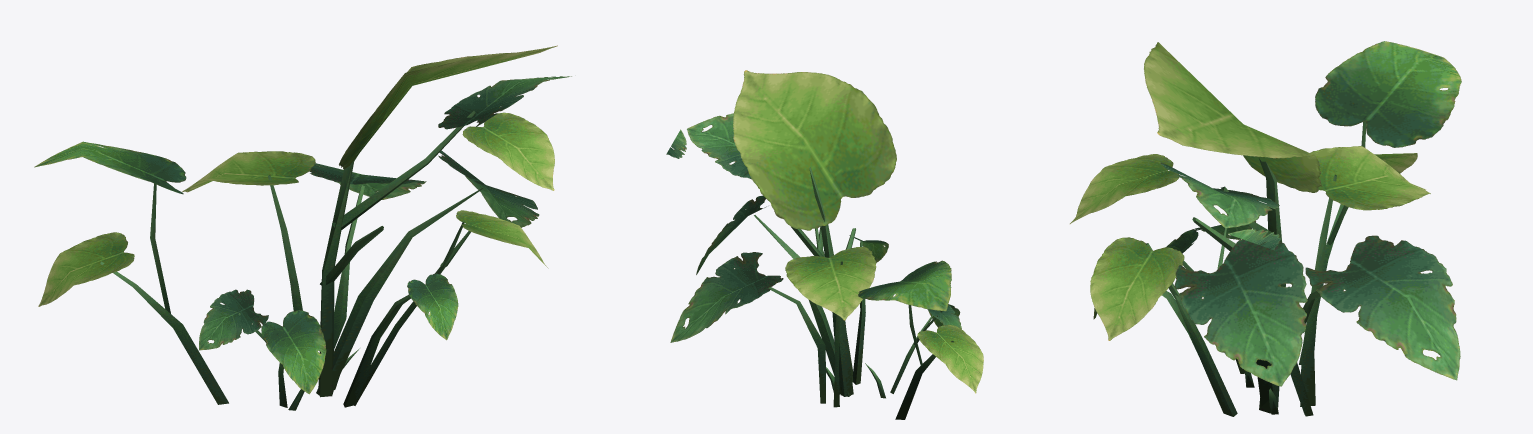
The model's file is 4006_Item_cao_1.FBX.
The picture shows the model from 3 angles, left to right: view 1: azimuth 30°, elevation 25°; view 2: azimuth 150°, elevation 25°; view 3: azimuth 270°, elevation 25°; orthographic projection. The views are drawn at different scales.
Visible parts, largest first — view 1: 4006_Item_cao_1; view 2: 4006_Item_cao_1; view 3: 4006_Item_cao_1.
Boxes of the visible parts, x1,y1,x2,y2 form: 4006_Item_cao_1: (34,45,571,410); 4006_Item_cao_1: (666,70,983,419); 4006_Item_cao_1: (1070,41,1461,416).
Bounding box in the file's own units: 115 × 83.5 × 83.75.
